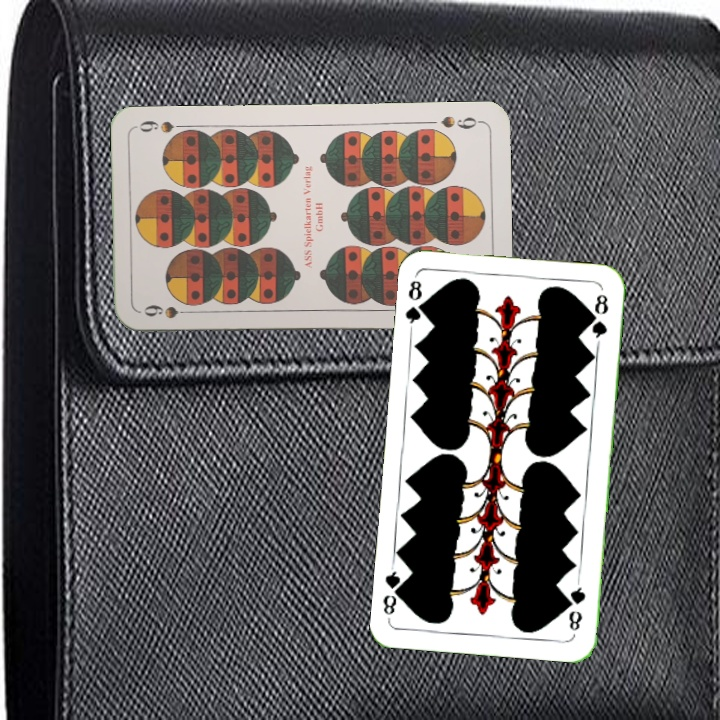G8: (401, 273, 430, 332), (564, 577, 589, 633)
S9: (140, 301, 197, 321), (437, 111, 484, 132)
